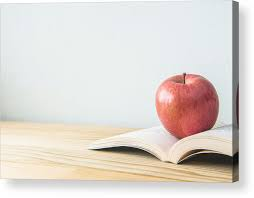apple: (155, 79, 218, 136)
